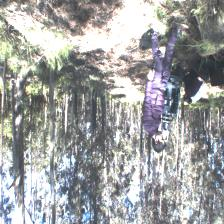trunktrack_idkeyframe: (10, 73, 28, 174), (48, 72, 55, 152)
